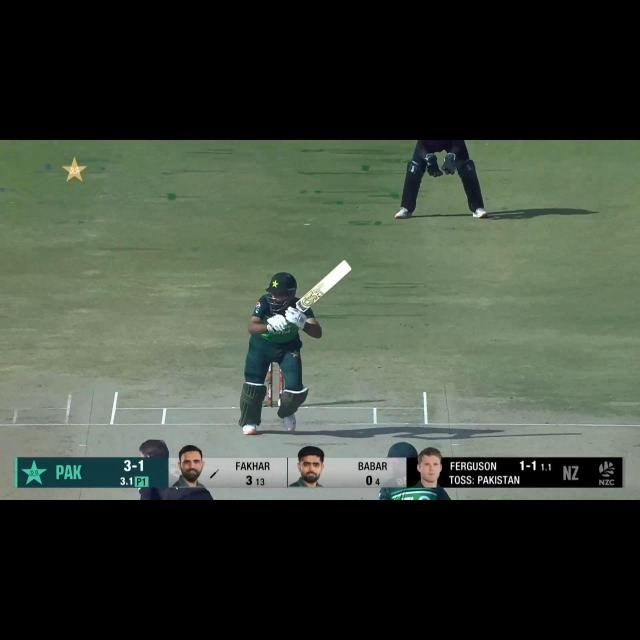bat: (294, 264, 351, 313)
toe: (339, 256, 356, 282)
